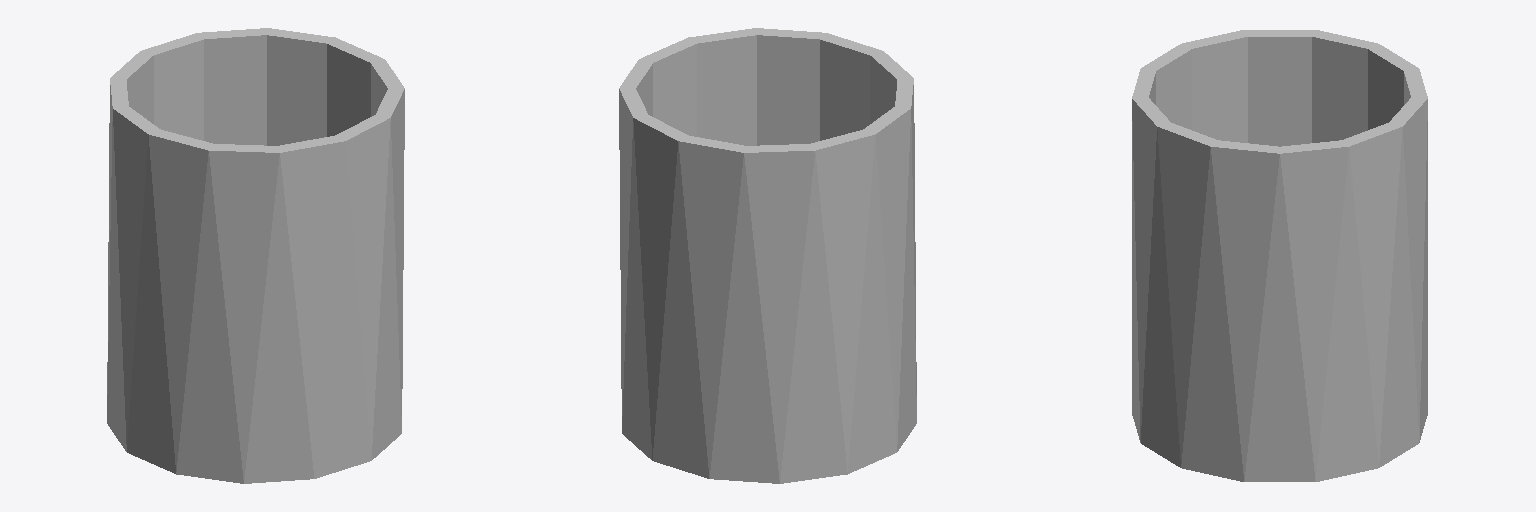
The model's file is TestFlaskBig.obj.
The picture shows the model from 3 angles: view 1: azimuth 30°, elevation 25°; view 2: azimuth 150°, elevation 25°; view 3: azimuth 270°, elevation 25°; orthographic projection.
Visible parts, largest first — view 1: Solid1; view 2: Solid1; view 3: Solid1.
Part boxes in pixels (left/top/right/bottom): Solid1: left=107, top=28, right=404, bottom=483; Solid1: left=619, top=28, right=916, bottom=483; Solid1: left=1132, top=30, right=1427, bottom=481.
Bounding box in the file's own units: 90 × 110 × 89.34.